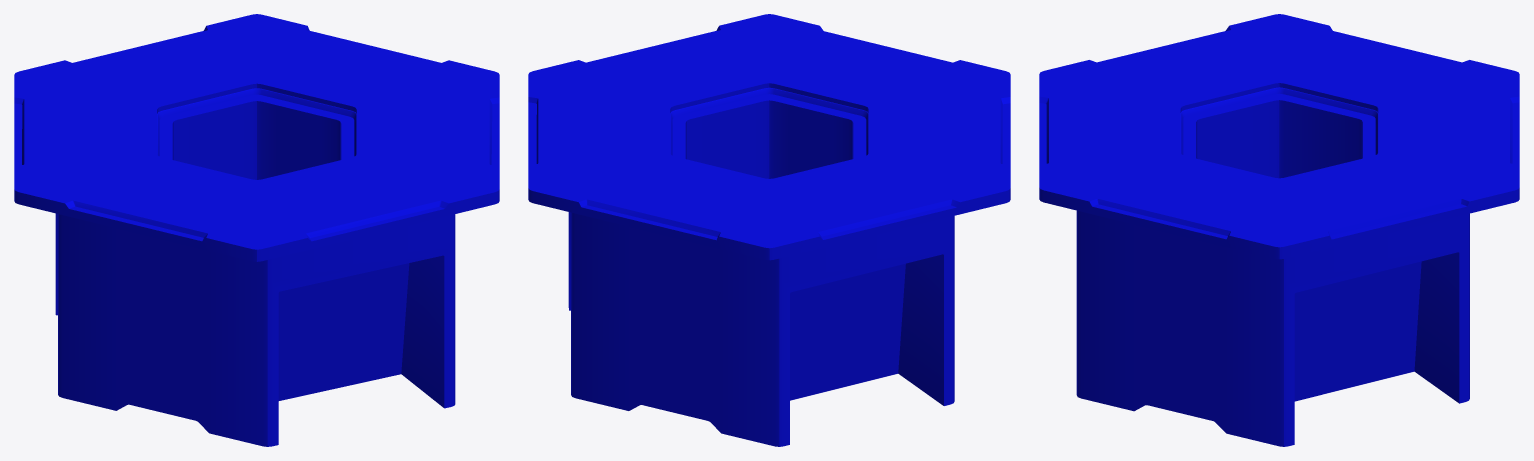
Rendered from Pillar_Table.FBX.
3 renders of one model, left to right at view 1: azimuth 30°, elevation 25°; view 2: azimuth 150°, elevation 25°; view 3: azimuth 270°, elevation 25°, orthographic.
Parts seen in each view (by area): view 1: Pillar_Table_Low; view 2: Pillar_Table_Low; view 3: Pillar_Table_Low.
Part boxes in pixels (x1=…): Pillar_Table_Low: x1=14, y1=14, x2=499, y2=446; Pillar_Table_Low: x1=528, y1=14, x2=1010, y2=446; Pillar_Table_Low: x1=1039, y1=14, x2=1519, y2=446.
Size of the model in its own units: 77.17 by 34.07 by 67.15.
